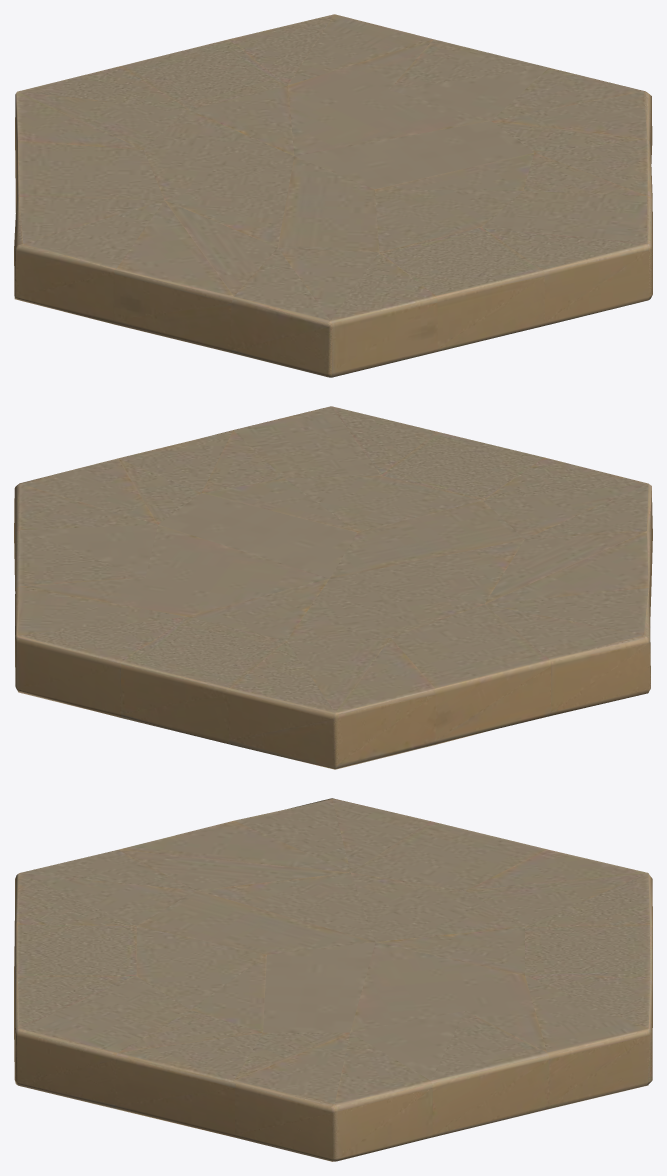
The model's file is tile-mountains.glb.
3 renders of one model, top to bottom at view 1: azimuth 30°, elevation 25°; view 2: azimuth 150°, elevation 25°; view 3: azimuth 270°, elevation 25°, orthographic.
Bounding box in the file's own units: 0.9556 × 0.082 × 0.8267.
1 material, 1 textured.
